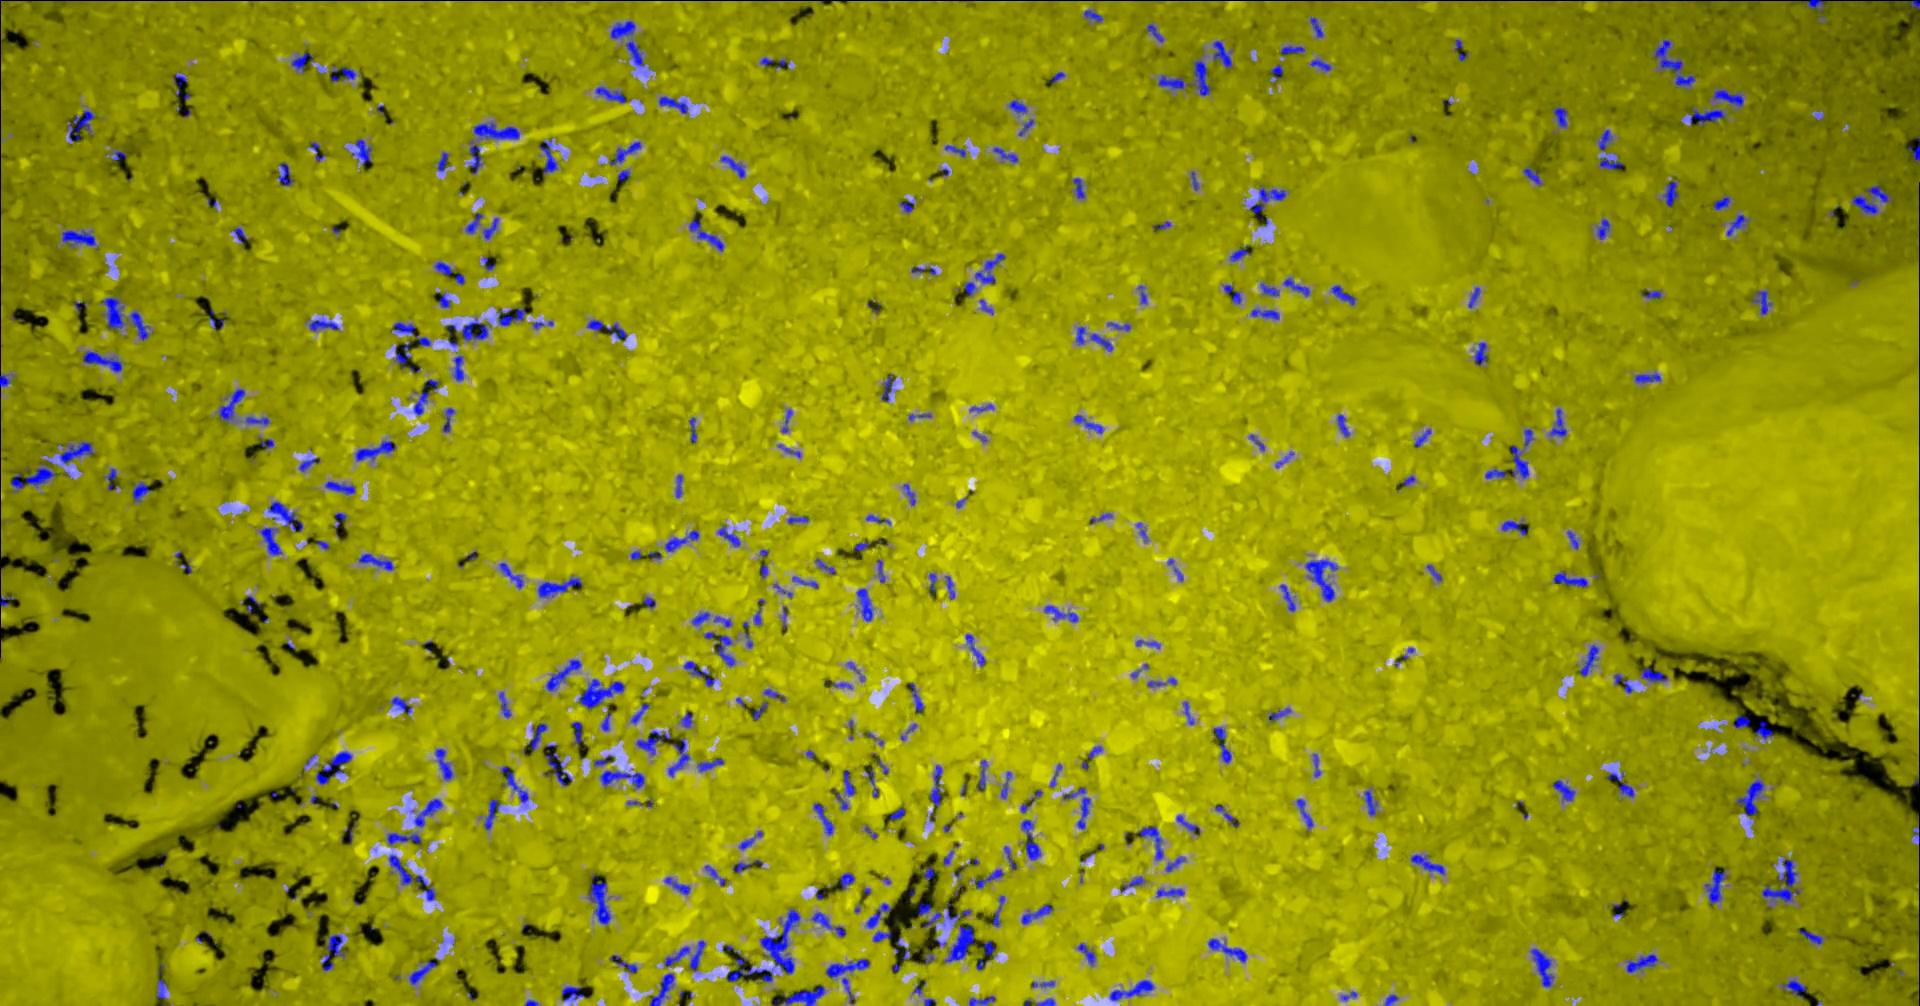ant: (759, 908, 800, 973), (389, 854, 436, 901), (1789, 0, 1919, 17), (825, 958, 869, 1005), (1157, 58, 1211, 95), (1653, 39, 1695, 86), (1761, 859, 1799, 902), (921, 902, 971, 931), (688, 212, 723, 251), (578, 678, 623, 708), (726, 951, 772, 981), (1305, 559, 1337, 601), (1851, 184, 1892, 213), (315, 751, 350, 784), (943, 923, 974, 962), (10, 464, 55, 489), (1063, 786, 1090, 828), (1250, 187, 1285, 217), (267, 500, 302, 531), (545, 659, 580, 690), (588, 874, 610, 923), (500, 765, 528, 803), (773, 984, 824, 1005), (1735, 779, 1763, 815), (543, 751, 571, 785), (413, 379, 439, 414), (974, 253, 1004, 283), (66, 109, 95, 141), (1208, 937, 1246, 962), (537, 577, 582, 597), (1109, 979, 1153, 1000), (667, 737, 690, 776), (1530, 948, 1553, 987), (1135, 826, 1162, 859), (635, 730, 670, 754), (413, 798, 442, 827), (408, 956, 438, 984), (356, 439, 395, 461), (321, 934, 344, 970), (218, 387, 244, 420), (811, 911, 844, 936), (585, 319, 626, 339), (83, 351, 121, 372), (649, 973, 674, 1005), (599, 770, 644, 788), (58, 441, 93, 464), (472, 122, 519, 138), (683, 661, 714, 686), (1021, 819, 1040, 860), (100, 296, 123, 329), (1704, 868, 1724, 904), (664, 530, 698, 551), (433, 260, 463, 285), (610, 141, 640, 164), (1410, 854, 1444, 874), (1211, 727, 1230, 762), (1608, 771, 1634, 796), (865, 903, 891, 929), (1688, 107, 1724, 124), (538, 138, 557, 173), (965, 634, 985, 666), (499, 561, 523, 588), (1043, 605, 1078, 622), (813, 801, 832, 835), (714, 635, 734, 666), (1021, 903, 1051, 923), (61, 229, 95, 246), (358, 553, 392, 570), (1578, 644, 1597, 676), (1625, 953, 1657, 972), (259, 527, 281, 555), (1211, 39, 1232, 69), (1510, 445, 1528, 478), (1552, 570, 1587, 587), (130, 310, 149, 340), (1073, 414, 1103, 433), (461, 319, 488, 340), (526, 723, 546, 751), (434, 748, 452, 780), (483, 798, 500, 829), (171, 72, 190, 102), (856, 588, 872, 621), (658, 95, 688, 113), (663, 946, 690, 967), (610, 954, 637, 973), (1712, 89, 1743, 105), (1726, 213, 1749, 236), (1020, 789, 1043, 812), (720, 155, 744, 177), (974, 869, 1003, 887), (350, 138, 371, 164), (1283, 277, 1309, 296), (688, 940, 705, 970), (497, 307, 524, 325), (1548, 408, 1566, 436), (717, 525, 740, 546), (930, 763, 941, 807), (1552, 779, 1575, 800), (1331, 285, 1355, 305), (1214, 805, 1238, 826), (610, 20, 635, 39), (625, 39, 643, 66), (1297, 798, 1312, 828), (1176, 814, 1199, 835), (1782, 978, 1804, 998), (394, 340, 410, 368), (1752, 290, 1771, 314), (738, 829, 762, 848), (664, 876, 690, 894), (596, 86, 625, 102), (908, 682, 923, 711), (469, 141, 483, 173), (324, 480, 356, 494), (1279, 584, 1295, 611), (703, 865, 725, 885), (290, 52, 312, 71), (880, 373, 895, 401), (731, 859, 762, 873), (990, 895, 1004, 926), (330, 65, 356, 81), (992, 146, 1017, 163), (1090, 333, 1112, 351), (1641, 667, 1667, 682), (386, 832, 422, 843), (1077, 942, 1095, 965), (1599, 152, 1623, 169), (277, 161, 293, 185), (156, 964, 168, 998), (1662, 180, 1677, 206), (463, 212, 483, 232), (131, 481, 151, 500), (1613, 673, 1632, 694), (630, 702, 649, 723), (1120, 875, 1143, 892), (1501, 520, 1528, 533), (309, 319, 338, 332), (1799, 929, 1823, 944), (1752, 720, 1771, 739), (830, 789, 848, 809), (814, 558, 836, 574), (1363, 790, 1377, 815), (1523, 166, 1540, 185), (1223, 285, 1241, 304), (842, 768, 855, 795), (207, 307, 223, 328), (391, 696, 411, 713), (1250, 307, 1279, 319), (1552, 105, 1567, 127), (483, 217, 498, 239), (442, 406, 455, 432), (498, 691, 510, 716), (697, 758, 723, 771), (902, 483, 916, 506), (561, 986, 584, 1000), (1145, 23, 1163, 41), (1413, 428, 1430, 447), (836, 873, 855, 889), (309, 141, 324, 161), (1229, 245, 1250, 260), (1164, 856, 1185, 871), (792, 575, 817, 588), (943, 144, 965, 158), (1269, 708, 1290, 721), (1907, 136, 1919, 161), (392, 321, 415, 334), (1474, 342, 1487, 365), (452, 354, 463, 380), (1634, 372, 1660, 384), (1336, 413, 1349, 436), (1309, 17, 1323, 37), (1597, 130, 1611, 150), (1467, 287, 1481, 307), (298, 457, 319, 471), (571, 721, 582, 749), (781, 408, 792, 432), (1309, 58, 1331, 71), (1072, 177, 1084, 198), (763, 688, 785, 701), (752, 701, 767, 719), (977, 760, 985, 790), (1001, 771, 1011, 798), (968, 995, 994, 1005), (1008, 99, 1027, 113), (246, 594, 260, 614), (104, 467, 116, 490), (1147, 677, 1176, 686), (823, 680, 852, 688), (1596, 218, 1609, 239), (865, 514, 890, 525), (232, 227, 249, 243), (1712, 196, 1730, 210), (1260, 282, 1277, 296), (691, 611, 709, 625), (1732, 714, 1750, 728), (1156, 888, 1183, 897), (1280, 44, 1304, 55), (1083, 9, 1102, 22), (1182, 701, 1192, 724), (599, 708, 610, 730), (889, 807, 905, 821), (593, 754, 615, 765), (872, 930, 891, 941), (1106, 321, 1130, 330), (945, 575, 954, 600), (963, 281, 977, 296), (982, 940, 996, 955), (1270, 64, 1283, 80), (1484, 467, 1505, 478), (245, 417, 268, 426), (1567, 530, 1578, 547), (921, 865, 935, 879), (437, 152, 447, 171), (688, 417, 696, 442), (1523, 428, 1533, 447), (333, 512, 345, 527), (414, 334, 430, 345), (787, 514, 808, 523), (616, 169, 629, 183), (899, 199, 913, 212), (917, 901, 930, 915), (876, 559, 884, 582), (681, 711, 692, 727), (1641, 290, 1660, 298), (928, 573, 936, 594), (438, 293, 450, 307), (0, 594, 14, 606), (1076, 326, 1084, 344), (110, 150, 126, 160), (676, 474, 682, 497), (0, 373, 10, 387), (855, 541, 869, 551), (1383, 995, 1397, 1005)
